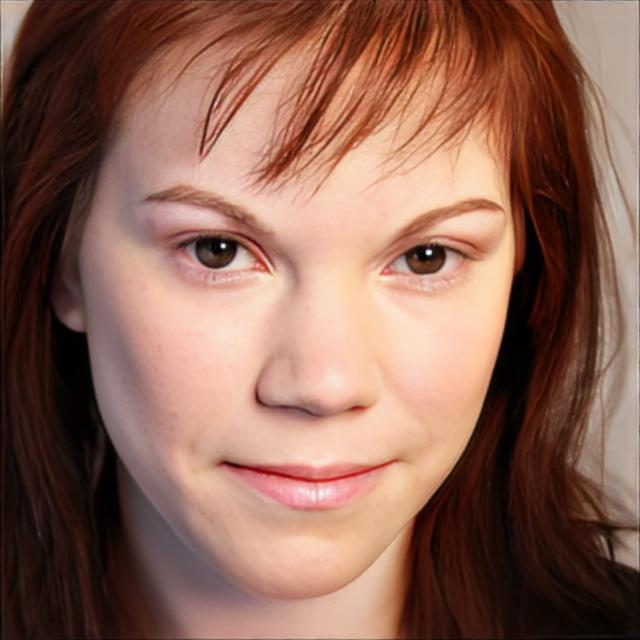content: (84, 0, 514, 606)
